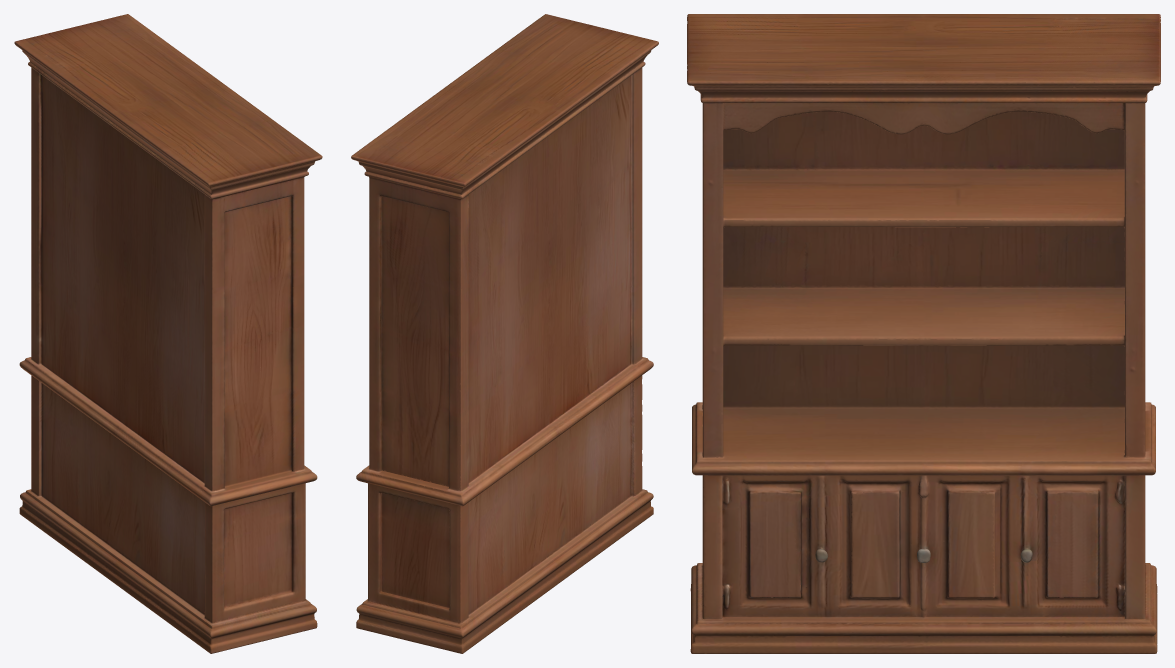
File: detailed_realistic_model_antiquebookshelf_03.glb
The picture shows the model from 3 angles, left to right: view 1: azimuth 30°, elevation 25°; view 2: azimuth 150°, elevation 25°; view 3: azimuth 270°, elevation 25°; orthographic projection. The views are drawn at different scales.
Parts seen in each view (by area): view 1: tripo_node_50c55ea9-8c32-454b-9f70-3976d8aec82c; view 2: tripo_node_50c55ea9-8c32-454b-9f70-3976d8aec82c; view 3: tripo_node_50c55ea9-8c32-454b-9f70-3976d8aec82c.
Part boxes in pixels (x1,y1,x2,y2): tripo_node_50c55ea9-8c32-454b-9f70-3976d8aec82c: (14, 14, 322, 653); tripo_node_50c55ea9-8c32-454b-9f70-3976d8aec82c: (351, 14, 658, 653); tripo_node_50c55ea9-8c32-454b-9f70-3976d8aec82c: (687, 14, 1160, 653).
Bounding box in the file's own units: 0.2532 × 1 × 0.7451.
1 material, 1 textured.
